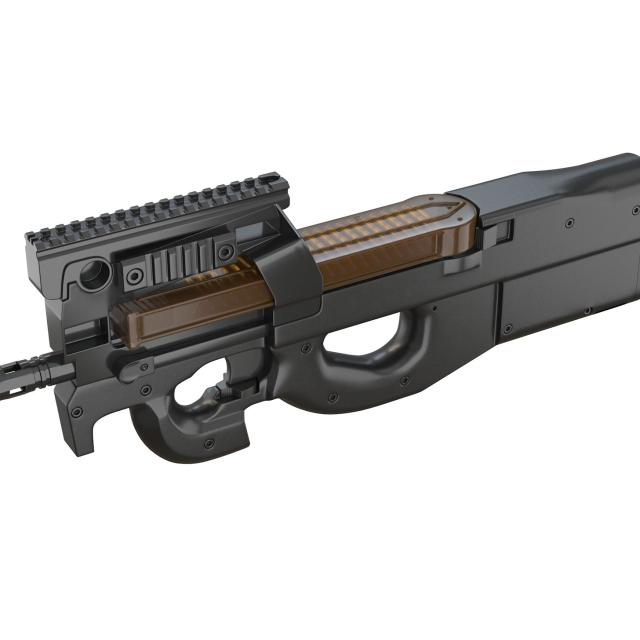Gun: (20, 147, 640, 490)
